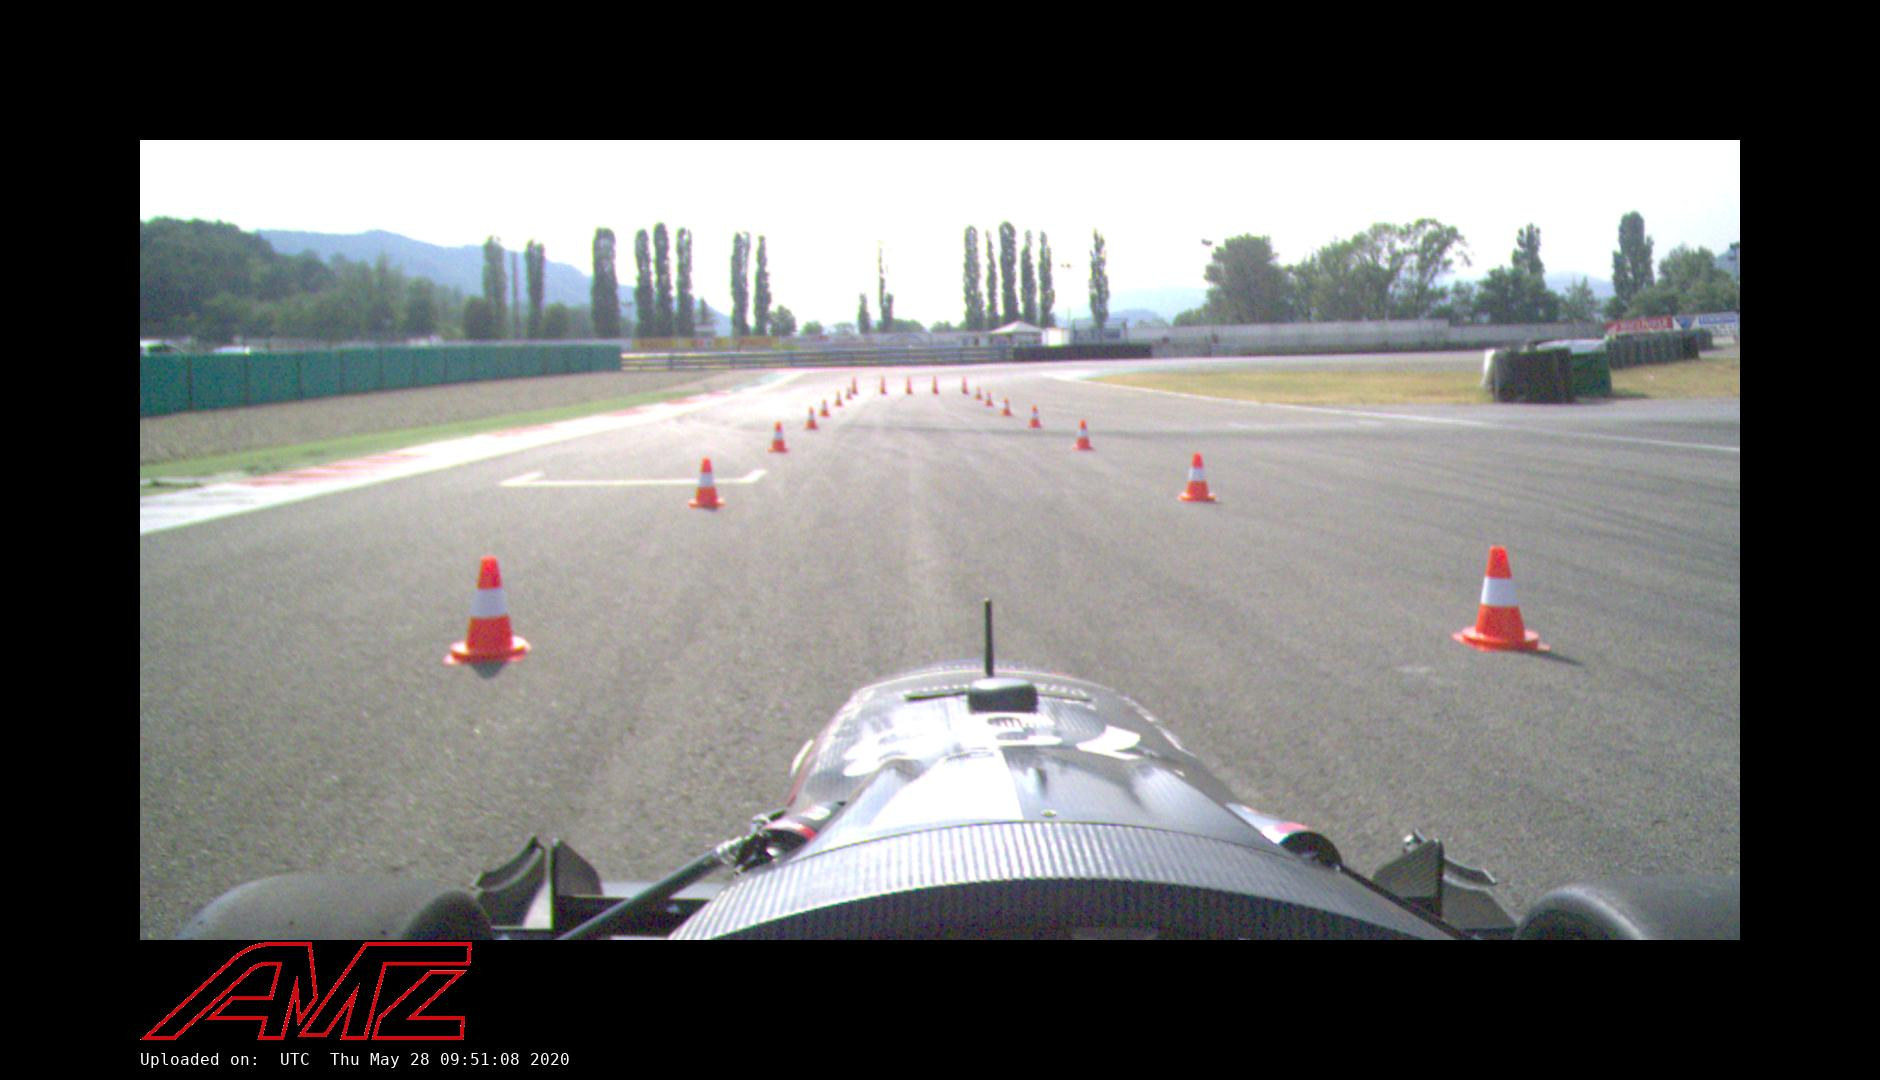large_orange_cone: (903, 375, 914, 395), (878, 375, 890, 395), (928, 376, 941, 394), (850, 376, 860, 395), (959, 376, 968, 393)
orange_cone: (1451, 546, 1551, 651), (444, 556, 531, 664), (1178, 452, 1221, 503), (687, 459, 727, 508), (764, 421, 792, 453), (1072, 420, 1096, 451), (1027, 406, 1045, 429), (802, 407, 819, 430), (817, 398, 832, 417), (999, 398, 1014, 416), (984, 391, 996, 407), (833, 391, 844, 407), (844, 386, 853, 400), (975, 388, 984, 400)
